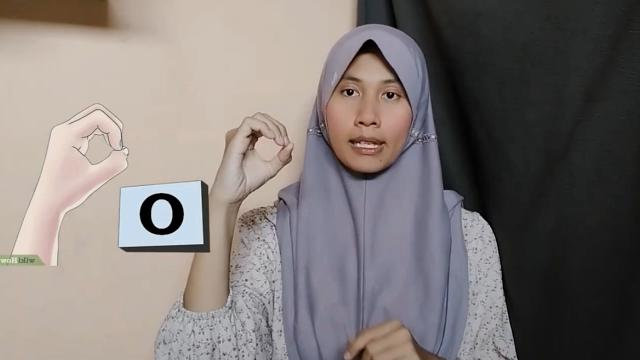O: (213, 109, 295, 198)
